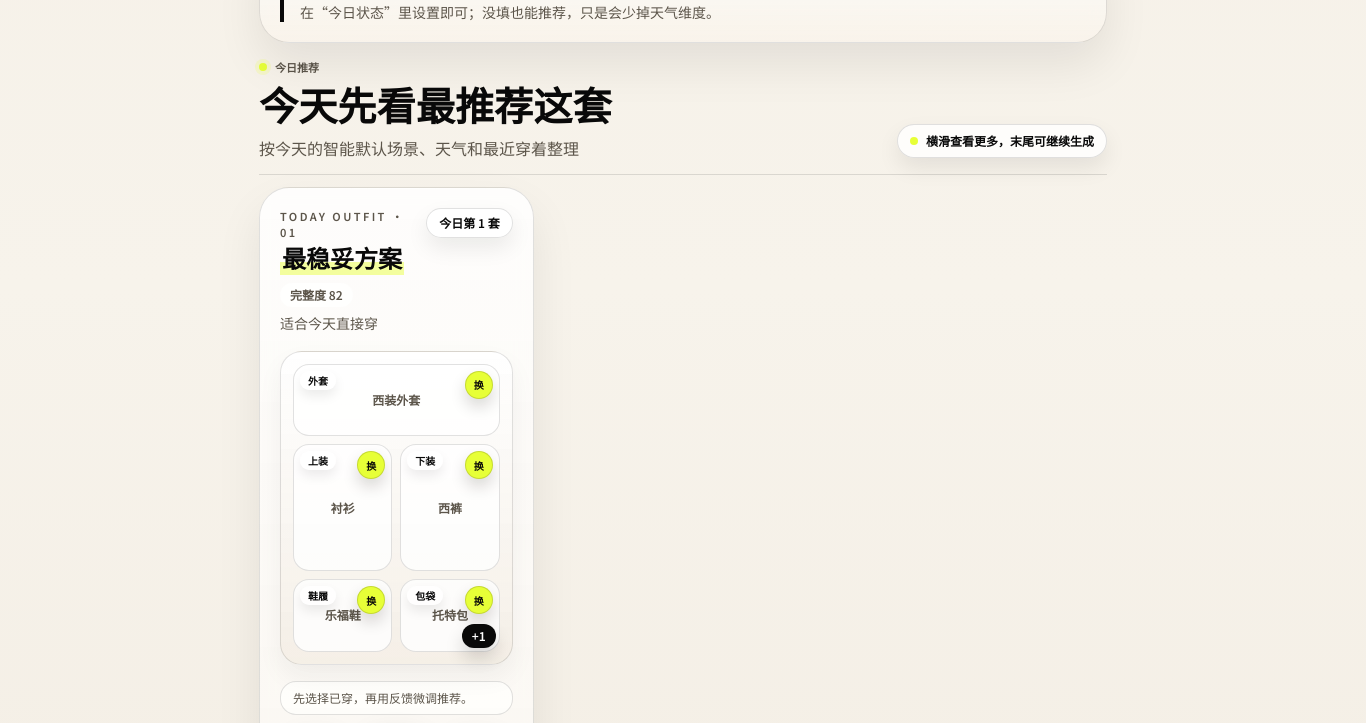
TodayPage › closes the replacement confirmation dialog when no better slot item exists
(page scrolled)
Click the button named "更换外套": [479, 385] box [465,371,493,399]
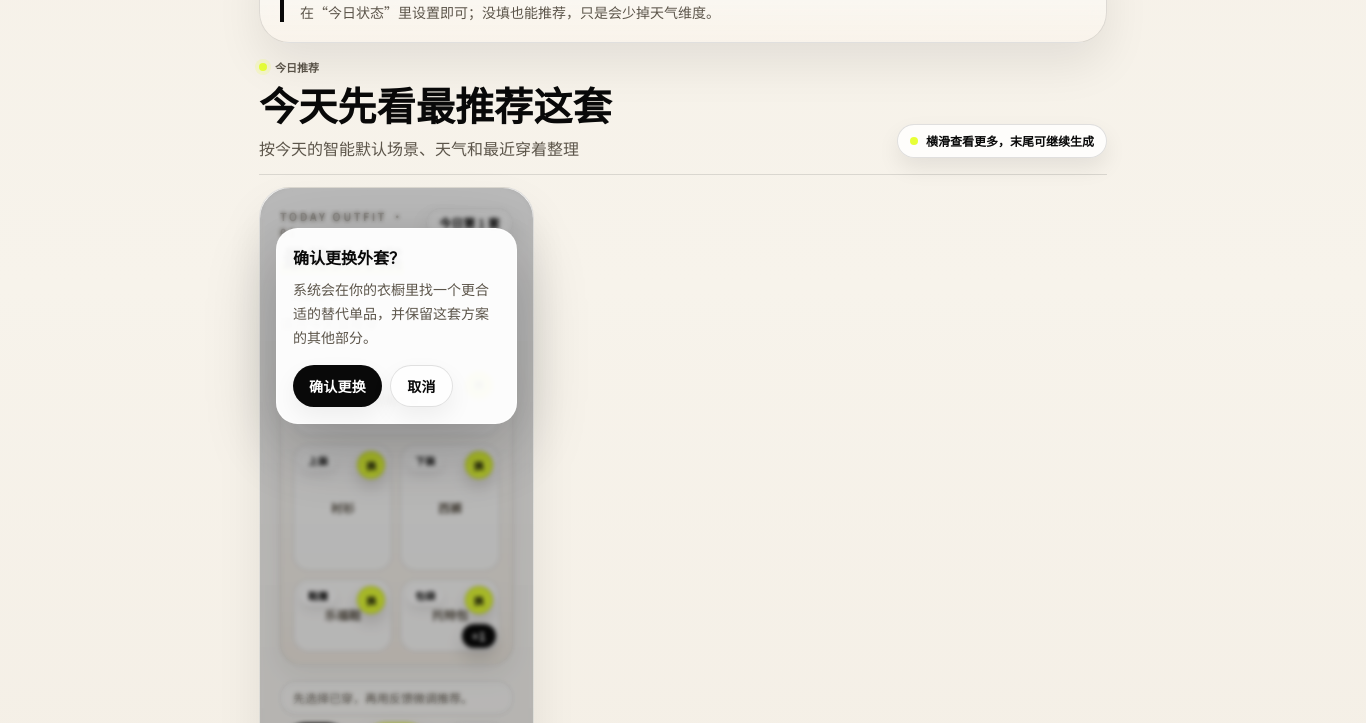
Expected: the dialog "确认更换外套" is shown, [276,228,517,424]
Click the button "确认更换": [338, 386] box [293,365,382,407]
(page scrolled)
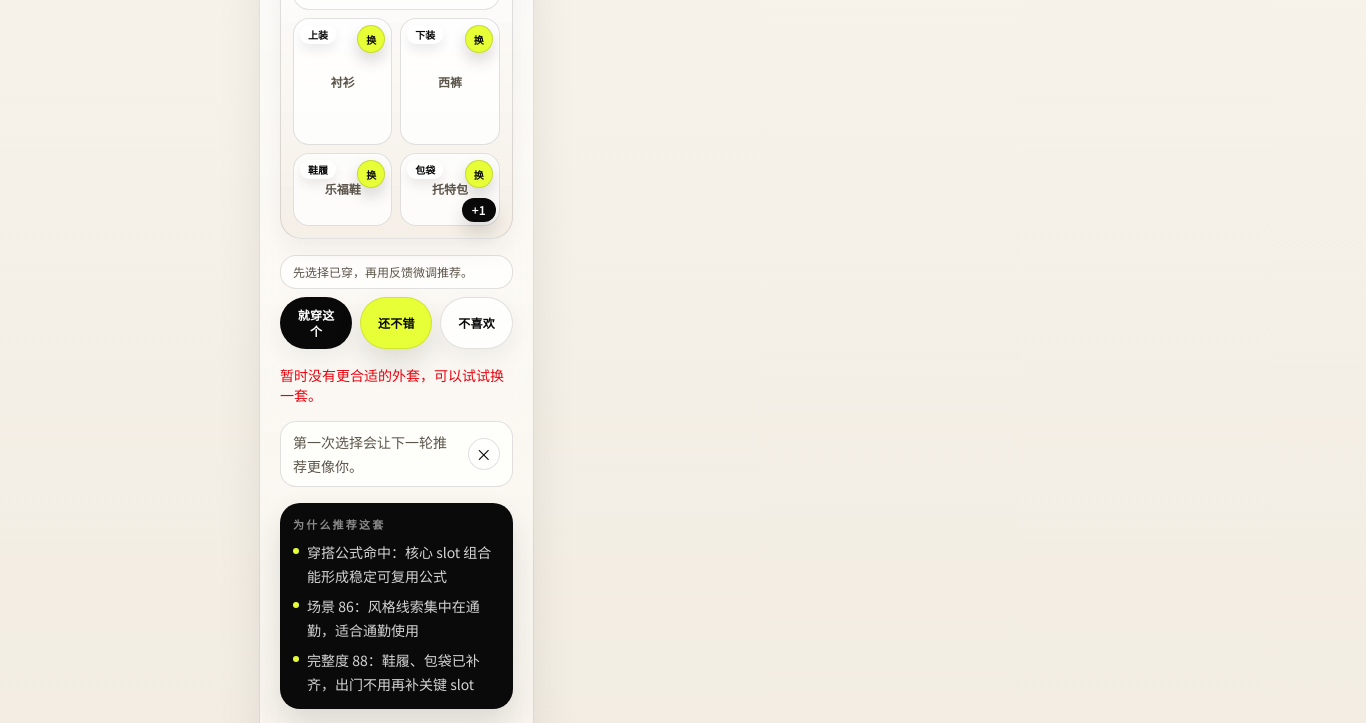
Expected: the text "确认更换外套" is gone
Expected: the text "暂时没有更合适的外套，可以试试换一套。" is shown, [280,365,513,405]
